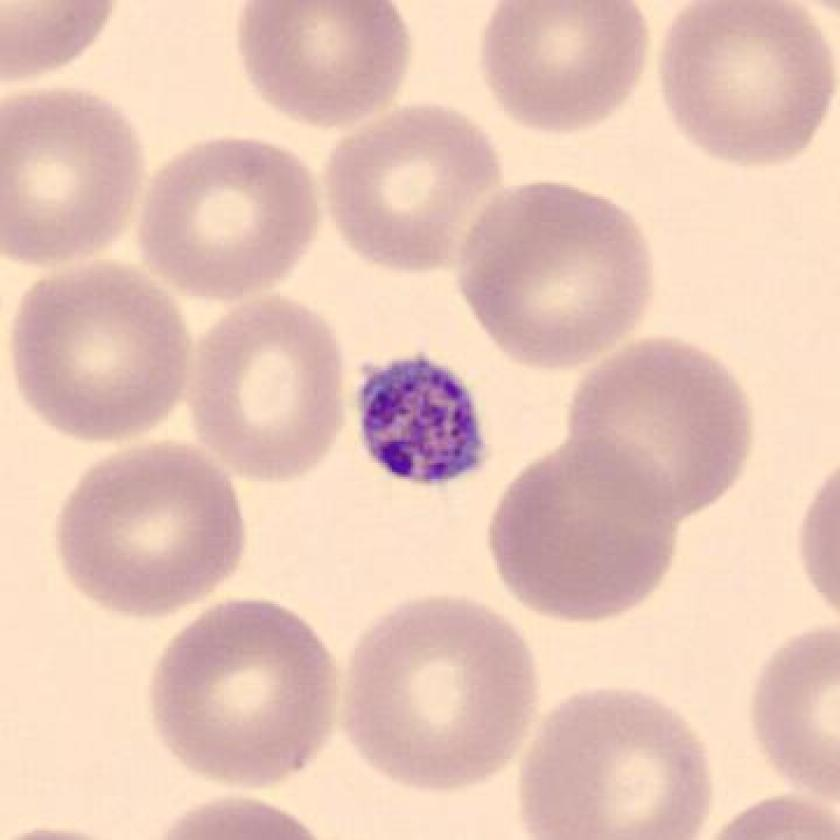platelets: (344, 339, 500, 501)
